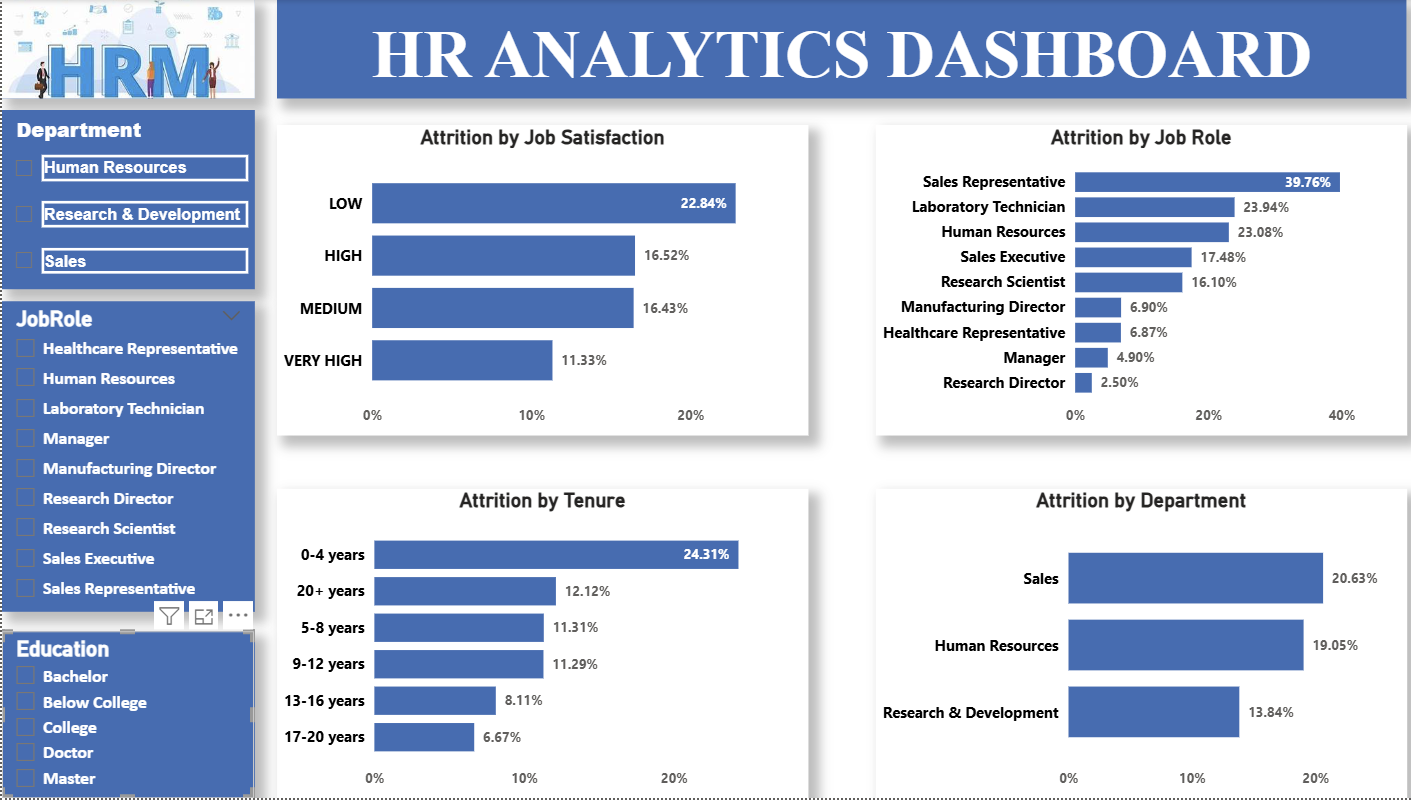

Layout of this report page (visuals, bound fields, positions):
{"tool":"powerbi","page":{"name":"Page 2","canvas":[1280,720],"ordinal":1},"visuals":[{"type":"textbox","title":"HR ANALYTICS DASHBOARD","box":[248.4,0,1018.2,89.2],"z":0},{"type":"image","box":[0,0,227.8,89.2],"z":1000},{"type":"slicer","fields":{"Values":["hr_cleaned.Department"]},"box":[0,98.8,227.8,161.9],"z":2000},{"type":"slicer","fields":{"Values":["hr_cleaned.JobRole"]},"box":[0,271.7,227.8,279.9],"z":3000},{"type":"slicer","fields":{"Values":["hr_cleaned.Education"]},"box":[0,569.1,227.8,150.9],"z":4000},{"type":"barChart","title":"Attrition by Department","fields":{"Y":["hr_cleaned.Attrition rate"],"Category":["hr_cleaned.Department"]},"box":[787.7,440.5,478.9,279.9],"z":5000},{"type":"barChart","title":"Attrition by Job Role","fields":{"Category":["hr_cleaned.JobRole"],"Y":["hr_cleaned.Attrition rate"]},"box":[787.7,112.5,478.9,279.9],"z":6000},{"type":"barChart","title":"Attrition by Job Satisfaction","fields":{"Category":["hr_cleaned.Job Sarisfaction"],"Y":["hr_cleaned.Attrition rate"]},"box":[248.4,112.5,478.9,279.9],"z":7000},{"type":"barChart","title":"Attrition by Tenure","fields":{"Category":["hr_cleaned.Tenure group"],"Y":["hr_cleaned.Attrition rate"]},"box":[248.4,440.5,478.9,279.9],"z":8000}]}

Visuals, with their boxes in screenshot pixels (x1, y1, x2, y2), scaled from the page's 1280x720 canvas onto the 1411x801 screenshot:
"HR ANALYTICS DASHBOARD" textbox: Rect(274, 0, 1396, 99)
image: Rect(0, 0, 251, 99)
slicer - hr_cleaned.Department: Rect(0, 110, 251, 290)
slicer - hr_cleaned.JobRole: Rect(0, 302, 251, 614)
slicer - hr_cleaned.Education: Rect(0, 633, 251, 800)
"Attrition by Department" barChart: Rect(868, 490, 1396, 800)
"Attrition by Job Role" barChart: Rect(868, 125, 1396, 437)
"Attrition by Job Satisfaction" barChart: Rect(274, 125, 802, 437)
"Attrition by Tenure" barChart: Rect(274, 490, 802, 800)
